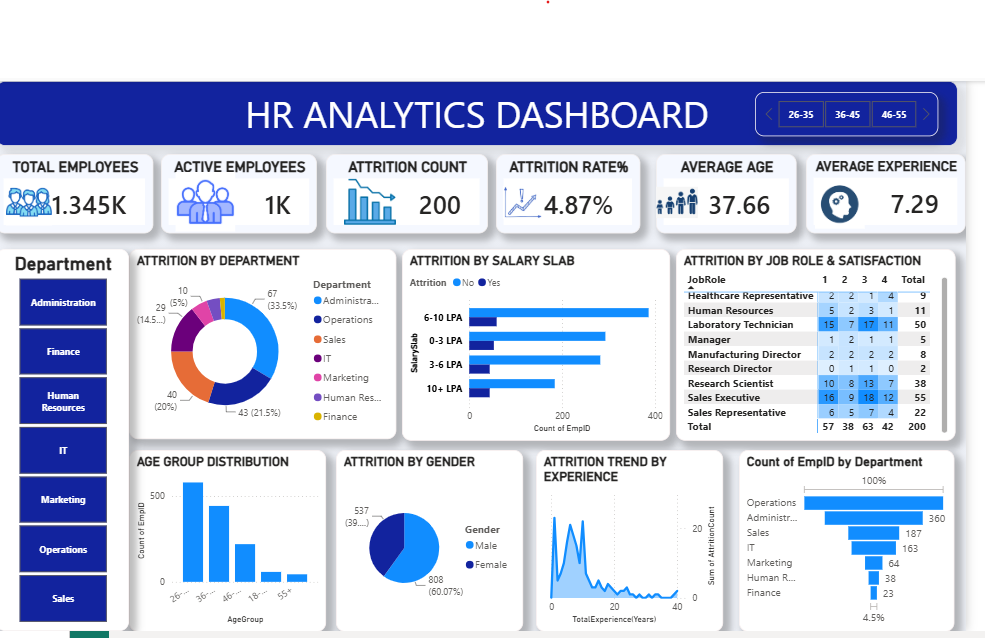

Layout of this report page (visuals, bound fields, positions):
{"tool":"powerbi","page":{"name":"Page 1","canvas":[1280,720],"ordinal":0},"visuals":[{"type":"textbox","box":[10,0,1259,85],"z":0},{"type":"cardVisual","title":"TOTAL EMPLOYEES","fields":{"Data":["CountNonNull(HR_Analytics-4 (2).EmpID)"]},"box":[10.1,95,205.9,103.7],"z":1000},{"type":"cardVisual","title":"ACTIVE EMPLOYEES","fields":{"Data":["Sum(HR_Analytics-4 (2).EmployeeCount)"]},"box":[226.1,95,204.5,103.7],"z":2000},{"type":"cardVisual","title":"ATTRITION COUNT","fields":{"Data":["Sum(HR_Analytics-4 (2).AttritionCount)"]},"box":[442.1,95,211.7,103.7],"z":3000},{"type":"cardVisual","title":"ATTRITION RATE%","fields":{"Data":["HR_Analytics-4 (2).ATTRITION RATE %"]},"box":[665.3,95,188.6,103.7],"z":4000},{"type":"cardVisual","title":"AVERAGE AGE","fields":{"Data":["Avg(HR_Analytics-4 (2).Age)"]},"box":[874.1,95,184.3,103.7],"z":5000},{"type":"cardVisual","title":"AVERAGE EXPERIENCE","fields":{"Data":["Avg(HR_Analytics-4 (2).YearsatCompany)"]},"box":[1071.4,95,208.8,103.7],"z":6000},{"type":"donutChart","title":"ATTRITION BY DEPARTMENT","fields":{"Category":["HR_Analytics-4 (2).Department"],"Y":["Sum(HR_Analytics-4 (2).AttritionCount)"]},"box":[184.3,220.3,349.9,249.1],"z":7000},{"type":"clusteredBarChart","title":"ATTRITION BY SALARY SLAB","fields":{"Category":["HR_Analytics-4 (2).SalarySlab"],"Y":["CountNonNull(HR_Analytics-4 (2).EmpID)"],"Series":["HR_Analytics-4 (2).Attrition"]},"box":[541.4,220.3,351.4,250.6],"z":8000},{"type":"pivotTable","title":"ATTRITION BY JOB ROLE & SATISFACTION","fields":{"Rows":["HR_Analytics-4 (2).JobRole"],"Values":["Sum(HR_Analytics-4 (2).AttritionCount)"],"Columns":["HR_Analytics-4 (2).JobSatisfaction"]},"box":[900,220.3,365.8,250.6],"z":9000},{"type":"columnChart","title":"AGE GROUP DISTRIBUTION","fields":{"Category":["HR_Analytics-4 (2).AgeGroup"],"Y":["CountNonNull(HR_Analytics-4 (2).EmpID)"]},"box":[184.3,482.4,257.8,237.6],"z":10000},{"type":"pieChart","title":"ATTRITION BY GENDER","fields":{"Category":["HR_Analytics-4 (2).Gender"],"Y":["CountNonNull(HR_Analytics-4 (2).Attrition)"]},"box":[455,482.4,244.8,237.6],"z":11000},{"type":"areaChart","title":"ATTRITION TREND BY EXPERIENCE","fields":{"Category":["HR_Analytics-4 (2).TotalExperience(Years)"],"Y2":["Sum(HR_Analytics-4 (2).AttritionCount)"]},"box":[717.1,482.4,244.8,237.6],"z":12000},{"type":"funnel","fields":{"Category":["HR_Analytics-4 (2).Department"],"Y":["CountNonNull(HR_Analytics-4 (2).EmpID)"]},"box":[983.5,482.4,282.2,237.6],"z":13000},{"type":"slicer","title":"Department","fields":{"Values":["HR_Analytics-4 (2).Department"]},"box":[10.1,220.3,174.2,499.7],"z":14000},{"type":"slicer","fields":{"Values":["HR_Analytics-4 (2).AgeGroup"]},"box":[1003.7,14.4,240.5,57.6],"z":15000},{"type":"image","box":[23,119.5,60.5,79.2],"z":15001},{"type":"image","box":[239,119.5,89.3,77.8],"z":15002},{"type":"image","box":[466.6,119.5,67.7,77.8],"z":15003},{"type":"image","box":[665.3,136.8,70.6,43.2],"z":15004},{"type":"image","box":[874.1,136.8,54.7,43.2],"z":15005},{"type":"image","box":[1082.9,123.8,64.8,73.4],"z":15006}]}

Visuals, with their boxes on the page's 1280x720 design canvas (x1, y1, x2, y2). These are canvas units, not pixel positions in the 985x638 screenshot, which may show the page scaled, cropped or inside an application window:
textbox: [x1=10, y1=0, x2=1269, y2=85]
"TOTAL EMPLOYEES" cardVisual: [x1=10, y1=95, x2=216, y2=199]
"ACTIVE EMPLOYEES" cardVisual: [x1=226, y1=95, x2=431, y2=199]
"ATTRITION COUNT" cardVisual: [x1=442, y1=95, x2=654, y2=199]
"ATTRITION RATE%" cardVisual: [x1=665, y1=95, x2=854, y2=199]
"AVERAGE AGE" cardVisual: [x1=874, y1=95, x2=1058, y2=199]
"AVERAGE EXPERIENCE" cardVisual: [x1=1071, y1=95, x2=1280, y2=199]
"ATTRITION BY DEPARTMENT" donutChart: [x1=184, y1=220, x2=534, y2=469]
"ATTRITION BY SALARY SLAB" clusteredBarChart: [x1=541, y1=220, x2=893, y2=471]
"ATTRITION BY JOB ROLE & SATISFACTION" pivotTable: [x1=900, y1=220, x2=1266, y2=471]
"AGE GROUP DISTRIBUTION" columnChart: [x1=184, y1=482, x2=442, y2=720]
"ATTRITION BY GENDER" pieChart: [x1=455, y1=482, x2=700, y2=720]
"ATTRITION TREND BY EXPERIENCE" areaChart: [x1=717, y1=482, x2=962, y2=720]
funnel - HR_Analytics-4 (2).Department x CountNonNull(HR_Analytics-4 (2).EmpID): [x1=984, y1=482, x2=1266, y2=720]
"Department" slicer: [x1=10, y1=220, x2=184, y2=720]
slicer - HR_Analytics-4 (2).AgeGroup: [x1=1004, y1=14, x2=1244, y2=72]
image: [x1=23, y1=120, x2=84, y2=199]
image: [x1=239, y1=120, x2=328, y2=197]
image: [x1=467, y1=120, x2=534, y2=197]
image: [x1=665, y1=137, x2=736, y2=180]
image: [x1=874, y1=137, x2=929, y2=180]
image: [x1=1083, y1=124, x2=1148, y2=197]
